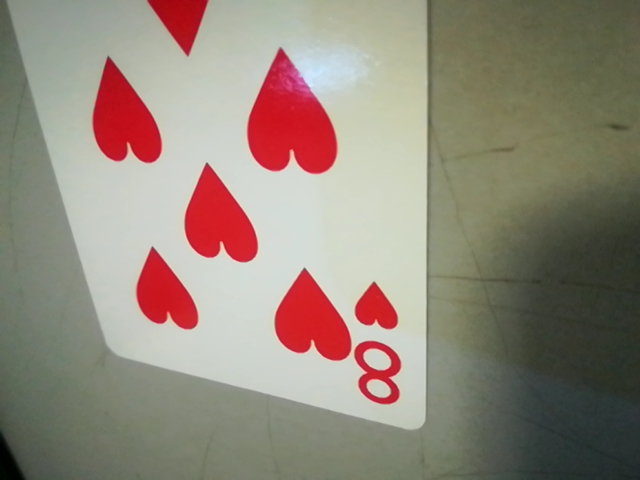hx 8: (344, 278, 417, 417)
